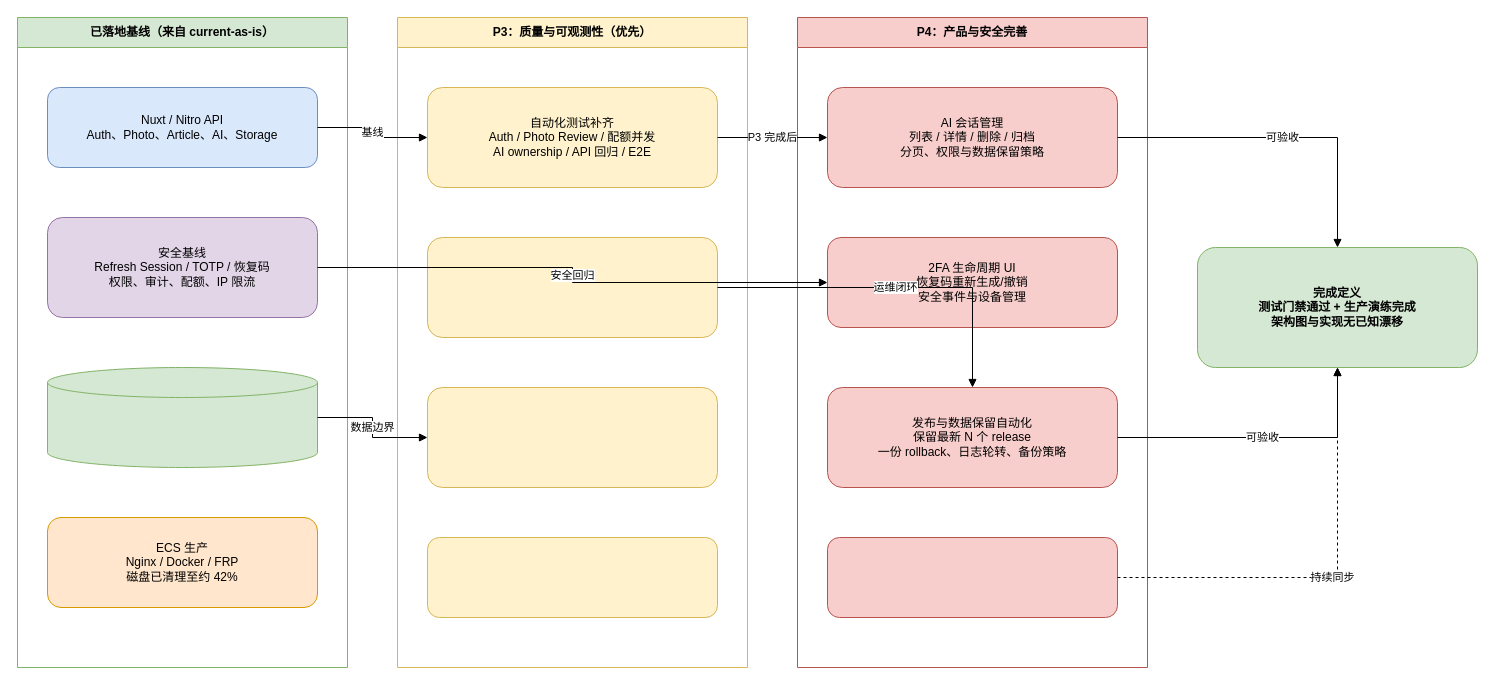
Image size: 1495x685. Some labels were removed from this diagram. Here are the shapes that lost their labels. From the top down, the centre of each, then its label:
pixel 572 287: Jobs 运维面板 详情、重试、取消、失败原因 统一任务状态与审计
pixel 182 417: SQLite + Prisma AI 会话已持久化 备份、迁移、回滚镜像
pixel 572 437: Storage 一致性运维 孤儿文件扫描、缩略图重建 清理前审计与恢复演练
pixel 572 577: 监控与告警 ECS 磁盘、内存、备份新鲜度 登录失败、队列积压
pixel 972 577: 架构校准闭环 每次迁移同步 current-as-is 代码、部署、文档三方核对
